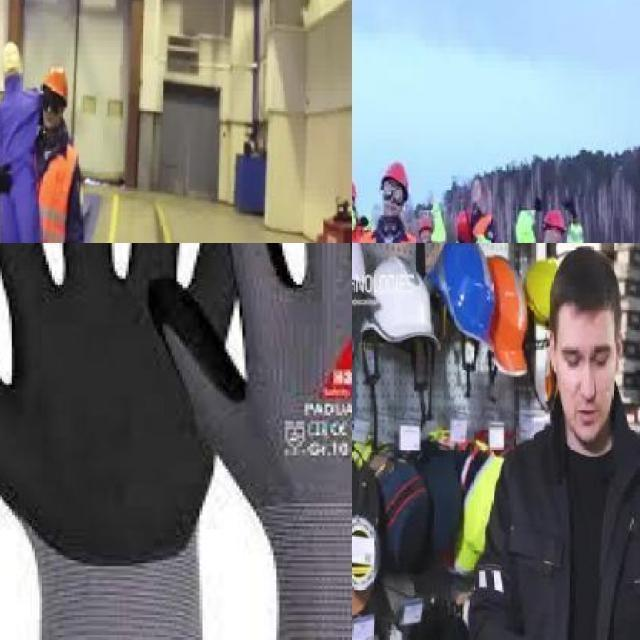apron: (0, 243, 246, 604), (160, 243, 352, 605), (0, 156, 15, 200), (560, 198, 580, 220), (534, 199, 543, 216), (362, 214, 369, 228)
